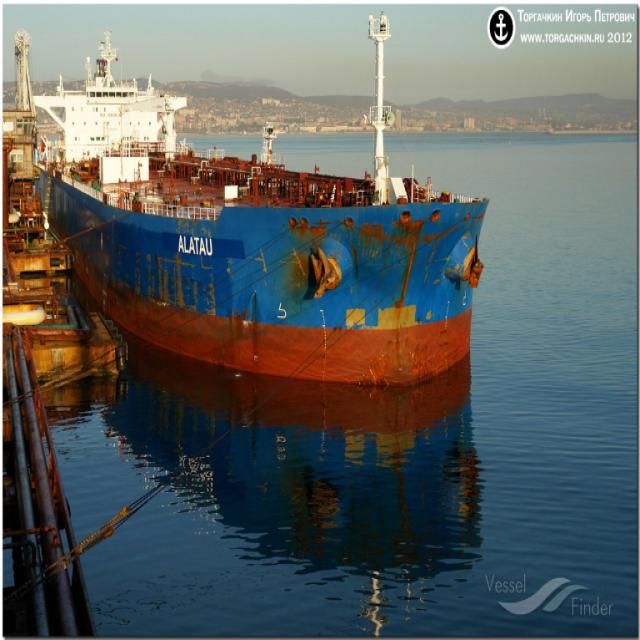Oil Tanker: (39, 46, 488, 387)
